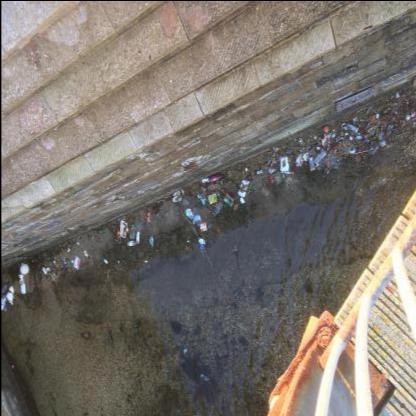Bottle: (357, 148, 360, 152), (412, 121, 414, 124), (362, 138, 364, 141), (319, 148, 321, 150), (328, 144, 330, 146), (334, 146, 336, 148), (337, 140, 339, 142)
Bottle cap: (313, 148, 327, 164), (220, 194, 232, 206), (223, 190, 234, 202), (208, 174, 220, 182), (115, 227, 120, 243), (0, 282, 7, 293), (126, 240, 137, 246), (115, 214, 125, 220)
Can: (199, 372, 208, 380), (133, 322, 137, 334), (84, 332, 90, 338), (23, 362, 27, 370)
Cup: (41, 266, 46, 274)
Lid: (309, 166, 315, 170), (270, 178, 272, 182)
Other plastic: (372, 127, 378, 139), (322, 125, 327, 132), (340, 122, 344, 128), (18, 273, 22, 277)
Plastic bag - wrapper: (266, 156, 278, 174), (212, 201, 221, 217), (196, 192, 206, 206), (0, 291, 6, 311), (207, 192, 216, 204), (72, 256, 79, 270), (192, 214, 200, 226), (198, 221, 206, 231), (143, 212, 151, 221)
Straw: (351, 150, 367, 154), (162, 194, 172, 198), (84, 237, 92, 242), (154, 200, 164, 202)
Unlabeled litter: (236, 178, 248, 196), (278, 155, 287, 171), (345, 121, 357, 132), (318, 133, 328, 146), (5, 291, 13, 305), (294, 152, 302, 166), (171, 190, 180, 202), (183, 206, 192, 218), (19, 263, 28, 274), (128, 224, 134, 239), (307, 156, 314, 168), (106, 332, 112, 344), (18, 282, 24, 293), (135, 230, 139, 243), (7, 284, 13, 292), (301, 154, 307, 162), (197, 237, 204, 243), (378, 132, 384, 139), (378, 140, 385, 146), (148, 236, 152, 246), (233, 292, 238, 300), (200, 177, 208, 182), (18, 277, 23, 284), (82, 249, 87, 256), (50, 272, 54, 280), (254, 168, 260, 173), (279, 170, 289, 173), (60, 257, 64, 263), (240, 197, 244, 203), (199, 242, 203, 248), (394, 91, 398, 97), (284, 150, 290, 154), (356, 134, 362, 138), (348, 148, 354, 152), (410, 111, 414, 117), (405, 115, 409, 120), (51, 260, 55, 264), (102, 258, 106, 262), (304, 150, 308, 154), (339, 131, 343, 135), (180, 189, 183, 194), (219, 178, 221, 185), (75, 241, 78, 245), (348, 135, 351, 139), (315, 146, 319, 149), (66, 247, 68, 251), (70, 259, 72, 263), (244, 167, 246, 171), (143, 260, 146, 262), (343, 132, 346, 134), (186, 239, 188, 241)
